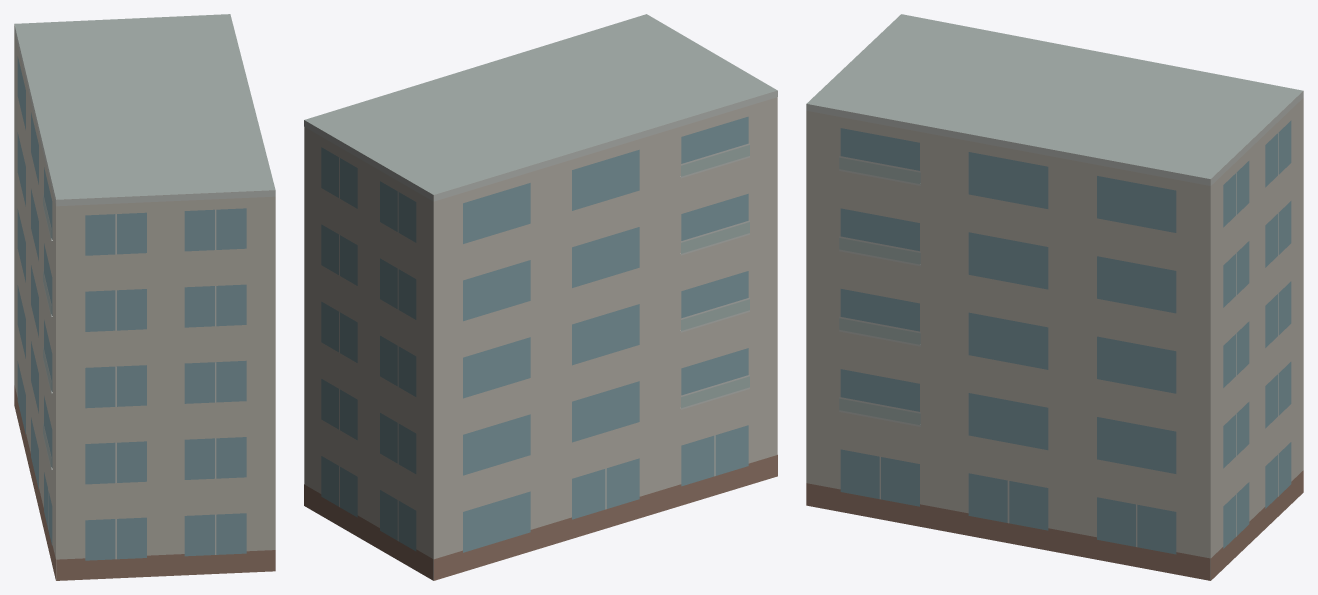
File: survey-upis-33023998.glb
3 views of the same model, side by side, from view 1: azimuth 30°, elevation 25°; view 2: azimuth 150°, elevation 25°; view 3: azimuth 270°, elevation 25° (orthographic). The views are drawn at different scales.
Parts seen in each view (by area): view 1: survey-upis-33023998.tmp; view 2: survey-upis-33023998.tmp; view 3: survey-upis-33023998.tmp.
Part boxes in pixels (<box>): survey-upis-33023998.tmp: <box>14,14,275,580</box>; survey-upis-33023998.tmp: <box>304,14,777,580</box>; survey-upis-33023998.tmp: <box>806,14,1303,580</box>.
Bounding box in the file's own units: 12.62 × 14.3 × 16.05.
